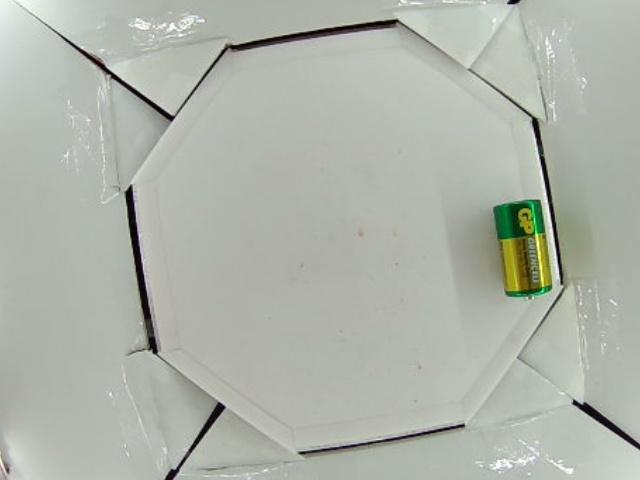Battery: (495, 198, 555, 302)
